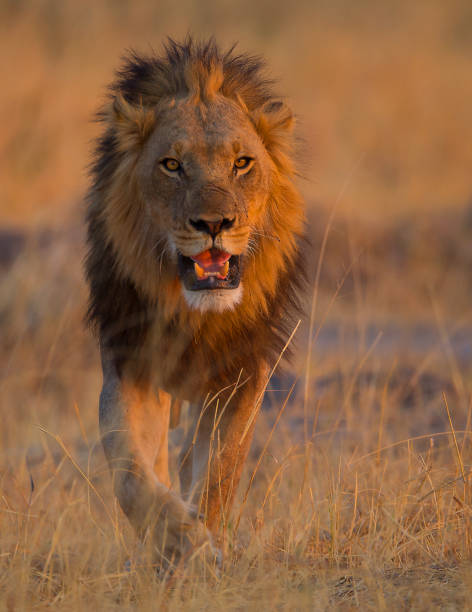lion: (52, 13, 334, 434)
